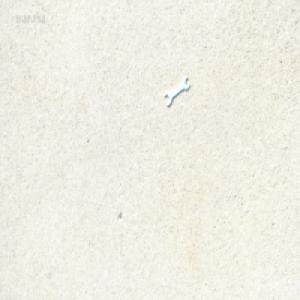Wrench: (164, 79, 188, 108)
